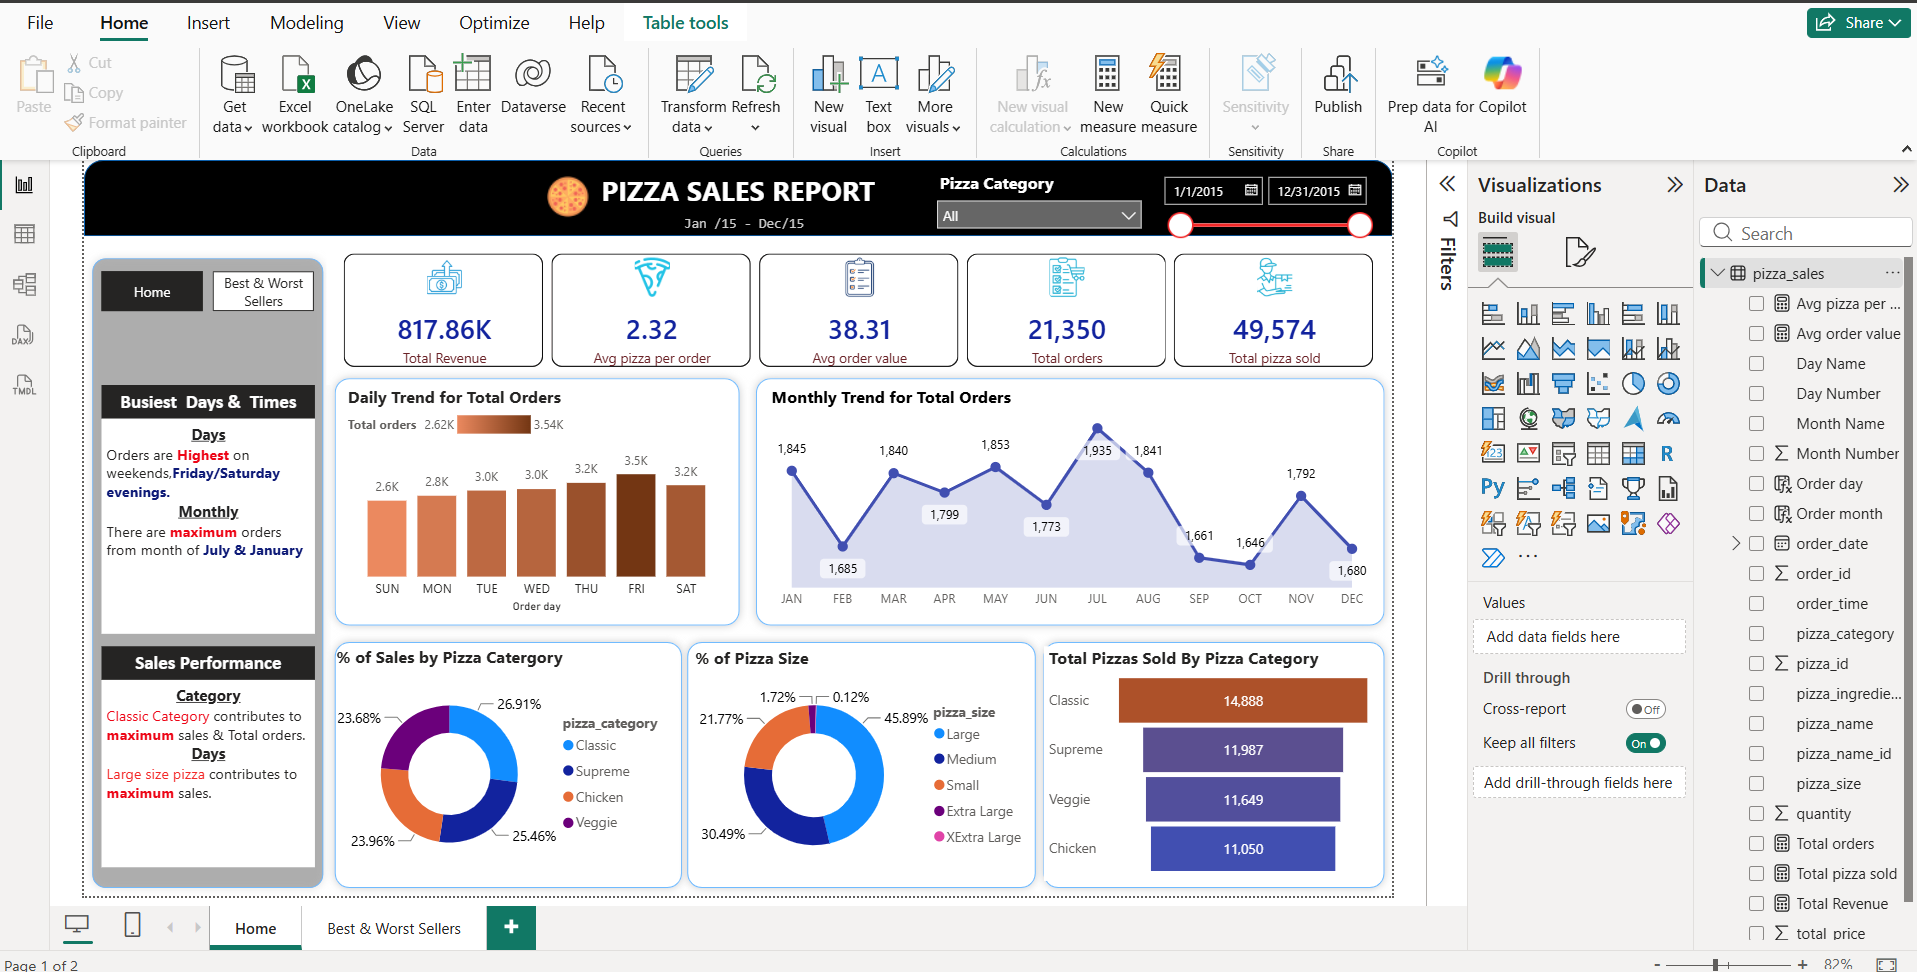

Layout of this report page (visuals, bound fields, positions):
{"tool":"powerbi","page":{"name":"Home","canvas":[1280,720],"ordinal":0},"visuals":[{"type":"shape","box":[0,88,242.1,632.2],"z":0},{"type":"cardVisual","fields":{"Data":["pizza_sales.Total Revenue","pizza_sales.Avg  pizza per order","pizza_sales.Avg order value","pizza_sales.Total orders","pizza_sales.Total pizza sales"]},"box":[237.2,74.6,1043.1,145.5],"z":1000},{"type":"shape","box":[0,0,1280.3,74.6],"z":2000},{"type":"textbox","box":[473.2,6.1,333.8,52.6],"z":3000},{"type":"textbox","box":[582.1,47.7,192,47.7],"z":4000},{"type":"image","box":[435.3,15.9,75.8,40.4],"z":5000},{"type":"shape","box":[237.2,205.4,412.1,258],"z":6000},{"type":"columnChart","title":"Daily Trend for Total Orders","fields":{"Category":["pizza_sales.Order day"],"Y":["pizza_sales.Total orders"]},"box":[253.1,220.1,380.3,227.4],"z":7000},{"type":"shape","box":[649.3,205.4,631,258],"z":8000},{"type":"areaChart","title":"Monthly Trend for Total Orders","fields":{"Category":["pizza_sales.Order month"],"Y":["pizza_sales.Total orders"]},"box":[667.7,220.1,598,227.4],"z":9000},{"type":"shape","box":[237.2,463.5,355.8,256.8],"z":10000},{"type":"shape","box":[582.1,463.5,357.1,256.8],"z":11000},{"type":"shape","box":[930.6,463.5,349.7,256.8],"z":12000},{"type":"donutChart","title":"% of Sales by Pizza Catergory","fields":{"Category":["pizza_sales.pizza_category"],"Y":["pizza_sales.Total Revenue"]},"box":[242.1,474.5,339.9,231.1],"z":13000},{"type":"donutChart","title":"% of Pizza Size","fields":{"Y":["pizza_sales.Total Revenue"],"Category":["pizza_sales.pizza_size"]},"box":[593.1,475.7,337.5,231.1],"z":14000},{"type":"funnel","title":"Total Pizzas Sold By Pizza Category","fields":{"Category":["pizza_sales.pizza_category"],"Y":["pizza_sales.Total pizza sold"]},"box":[939.1,475.7,326.5,229.9],"z":15000},{"type":"textbox","box":[17.1,220.1,209.1,33],"z":16000},{"type":"textbox","box":[17.1,253.1,209.1,210.3],"z":17000},{"type":"textbox","box":[17.1,475.7,209.1,33],"z":18000},{"type":"textbox","box":[17.1,508.7,209.1,183.4],"z":19000},{"type":"slicer","fields":{"Values":["pizza_sales.pizza_category"]},"box":[824.2,6.1,220.1,68.5],"z":20000},{"type":"slicer","fields":{"Values":["pizza_sales.order_date"]},"box":[1044.3,6.1,225,81.9],"z":21000},{"type":"pageNavigator","box":[17.6,108.3,209.8,39.2],"z":22000}]}

Visuals, with their boxes on the page's 1280x720 design canvas (x1, y1, x2, y2). These are canvas units, not pixel positions in the 1917x972 screenshot, which may show the page scaled, cropped or inside an application window:
shape: {"left": 0, "top": 88, "right": 242, "bottom": 720}
cardVisual - pizza_sales.Total Revenue x pizza_sales.Avg  pizza per order: {"left": 237, "top": 75, "right": 1280, "bottom": 220}
shape: {"left": 0, "top": 0, "right": 1280, "bottom": 75}
textbox: {"left": 473, "top": 6, "right": 807, "bottom": 59}
textbox: {"left": 582, "top": 48, "right": 774, "bottom": 95}
image: {"left": 435, "top": 16, "right": 511, "bottom": 56}
shape: {"left": 237, "top": 205, "right": 649, "bottom": 463}
"Daily Trend for Total Orders" columnChart: {"left": 253, "top": 220, "right": 633, "bottom": 448}
shape: {"left": 649, "top": 205, "right": 1280, "bottom": 463}
"Monthly Trend for Total Orders" areaChart: {"left": 668, "top": 220, "right": 1266, "bottom": 448}
shape: {"left": 237, "top": 464, "right": 593, "bottom": 720}
shape: {"left": 582, "top": 464, "right": 939, "bottom": 720}
shape: {"left": 931, "top": 464, "right": 1280, "bottom": 720}
"% of Sales by Pizza Catergory" donutChart: {"left": 242, "top": 474, "right": 582, "bottom": 706}
"% of Pizza Size" donutChart: {"left": 593, "top": 476, "right": 931, "bottom": 707}
"Total Pizzas Sold By Pizza Category" funnel: {"left": 939, "top": 476, "right": 1266, "bottom": 706}
textbox: {"left": 17, "top": 220, "right": 226, "bottom": 253}
textbox: {"left": 17, "top": 253, "right": 226, "bottom": 463}
textbox: {"left": 17, "top": 476, "right": 226, "bottom": 509}
textbox: {"left": 17, "top": 509, "right": 226, "bottom": 692}
slicer - pizza_sales.pizza_category: {"left": 824, "top": 6, "right": 1044, "bottom": 75}
slicer - pizza_sales.order_date: {"left": 1044, "top": 6, "right": 1269, "bottom": 88}
pageNavigator: {"left": 18, "top": 108, "right": 227, "bottom": 148}
